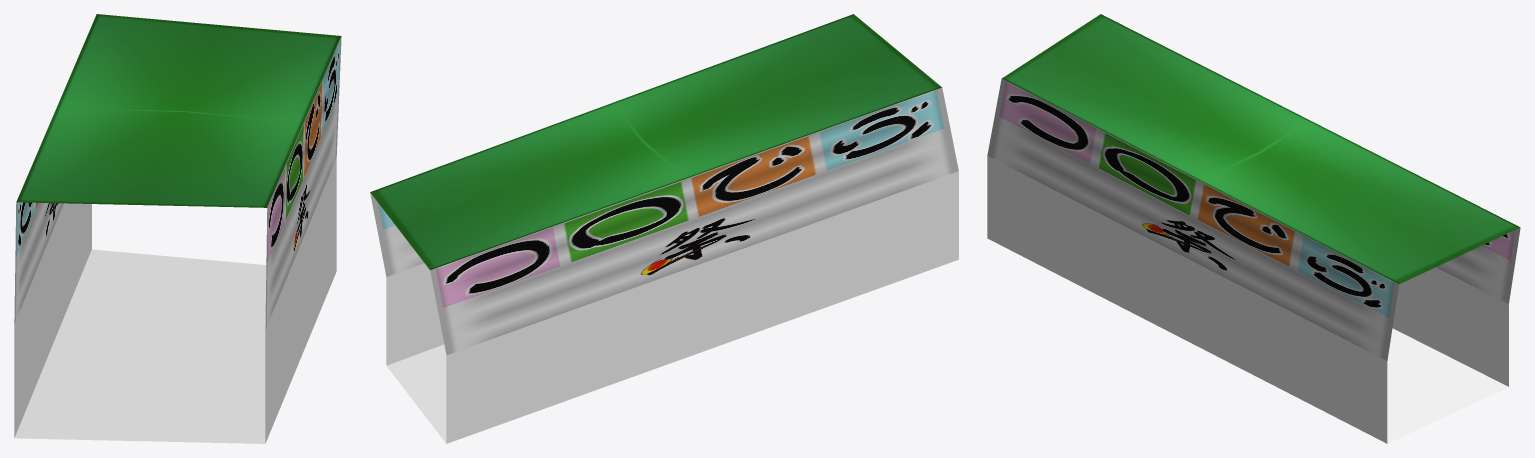
File: CourseWinter_Wall_L_4_1.fbx
3 renders of one model, left to right at view 1: azimuth 30°, elevation 25°; view 2: azimuth 150°, elevation 25°; view 3: azimuth 270°, elevation 25°, orthographic. The views are drawn at different scales.
Parts seen in each view (by area): view 1: polySurface462; view 2: polySurface462; view 3: polySurface462.
Part boxes in pixels (x1,y1,x2,y2): polySurface462: [14, 14, 341, 443]; polySurface462: [370, 14, 958, 443]; polySurface462: [987, 14, 1520, 443].
Bounding box in the file's own units: 4.98 × 2.98 × 5.84.
Materials: 1 (1 with a texture image).
